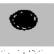correct: (6, 9, 42, 32)
